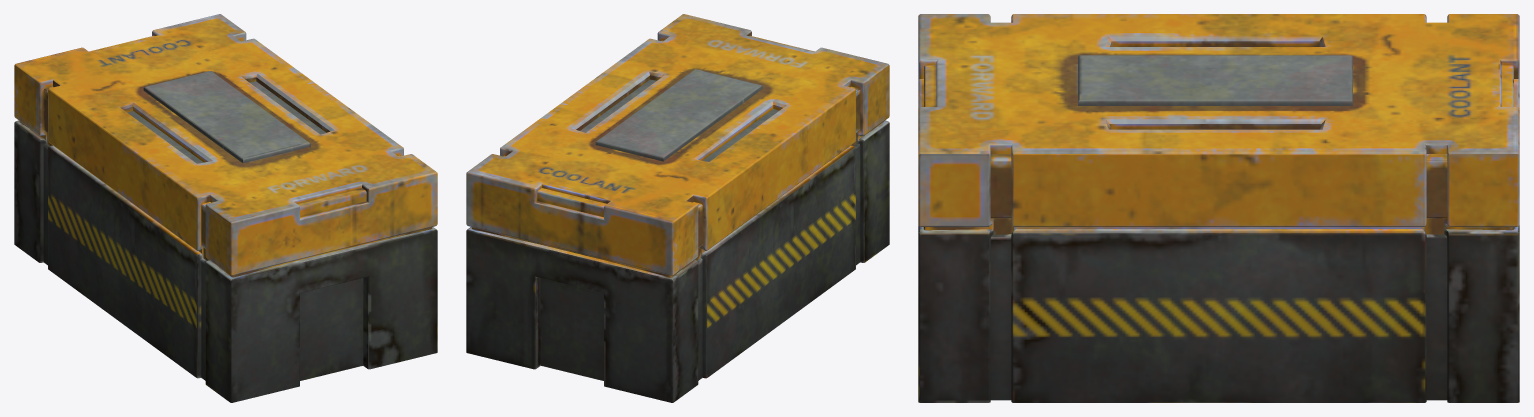
File: SM_Crates_LP_pCube2.fbx
3 renders of one model, left to right at view 1: azimuth 30°, elevation 25°; view 2: azimuth 150°, elevation 25°; view 3: azimuth 270°, elevation 25°, orthographic. The views are drawn at different scales.
Visible parts, largest first — view 1: SM_Crates_LP_pCube2_LOD0; view 2: SM_Crates_LP_pCube2_LOD0; view 3: SM_Crates_LP_pCube2_LOD0.
Boxes of the visible parts, x1=… form: SM_Crates_LP_pCube2_LOD0: x1=14, y1=14, x2=437, y2=402; SM_Crates_LP_pCube2_LOD0: x1=466, y1=14, x2=889, y2=402; SM_Crates_LP_pCube2_LOD0: x1=918, y1=14, x2=1519, y2=402.
Bounding box in the file's own units: 60 × 109 × 51.17.
Materials: 1 (1 with a texture image).
